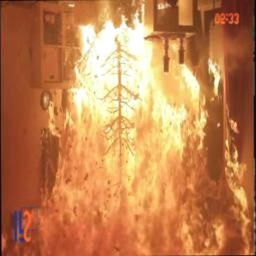fire: (5, 26, 242, 255)
